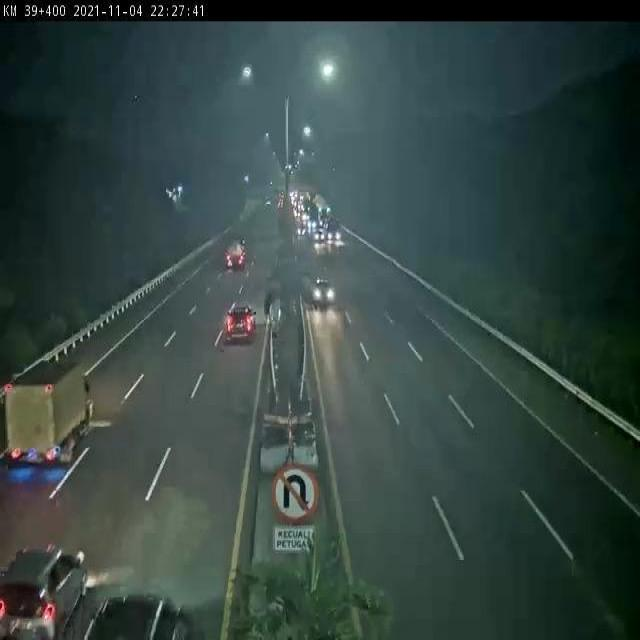car: (224, 302, 257, 346), (313, 276, 338, 311)
truck-m-: (6, 358, 95, 470)
truck-s-: (226, 237, 249, 271)
